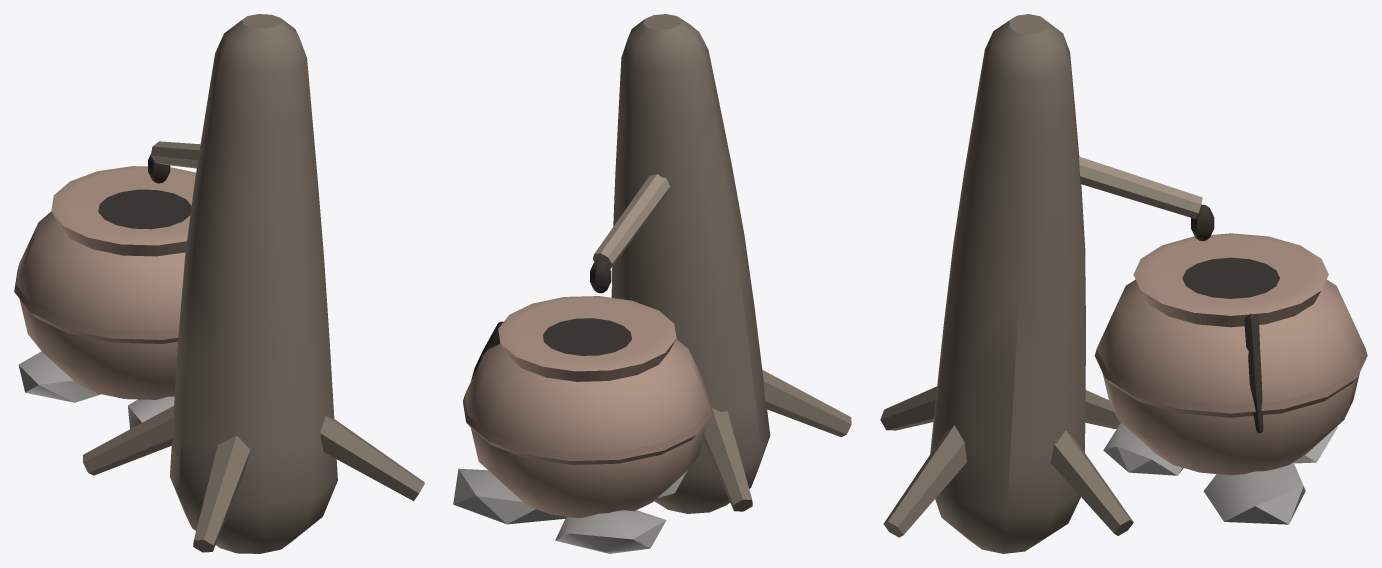
The model's file is pitch_pot.gltf.
3 renders of one model, left to right at view 1: azimuth 30°, elevation 25°; view 2: azimuth 150°, elevation 25°; view 3: azimuth 270°, elevation 25°, orthographic. The views are drawn at different scales.
Visible parts, largest first — view 1: Body, Pitch; view 2: Body, Pitch; view 3: Body, Pitch.
Boxes of the visible parts, x1,y1,x2,y2 form: Body: (14,14,424,553); Pitch: (98,154,191,229); Body: (453,14,851,553); Pitch: (471,259,631,380); Body: (880,14,1367,553); Pitch: (1182,204,1279,433).
Bounding box in the file's own units: 0.708 × 1.42 × 1.2.
